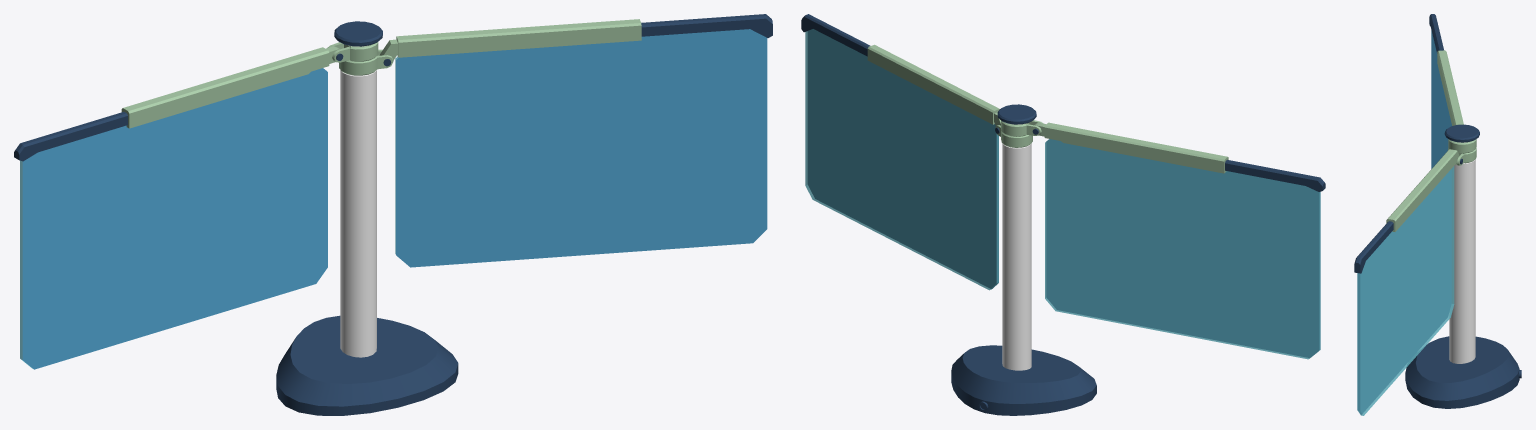
The model's file is Misc_CyberScreen_A.fbx.
The picture shows the model from 3 angles, left to right: view 1: azimuth 30°, elevation 25°; view 2: azimuth 150°, elevation 25°; view 3: azimuth 270°, elevation 25°; orthographic projection. The views are drawn at different scales.
Parts seen in each view (by area): view 1: Misc_CyberScreen_A.001; view 2: Misc_CyberScreen_A.001; view 3: Misc_CyberScreen_A.001.
Boxes of the visible parts, x1,y1,x2,y2 form: Misc_CyberScreen_A.001: [14, 14, 772, 415]; Misc_CyberScreen_A.001: [801, 14, 1325, 415]; Misc_CyberScreen_A.001: [1354, 14, 1521, 415].
Bounding box in the file's own units: 0.7952 × 0.3747 × 0.2287.
